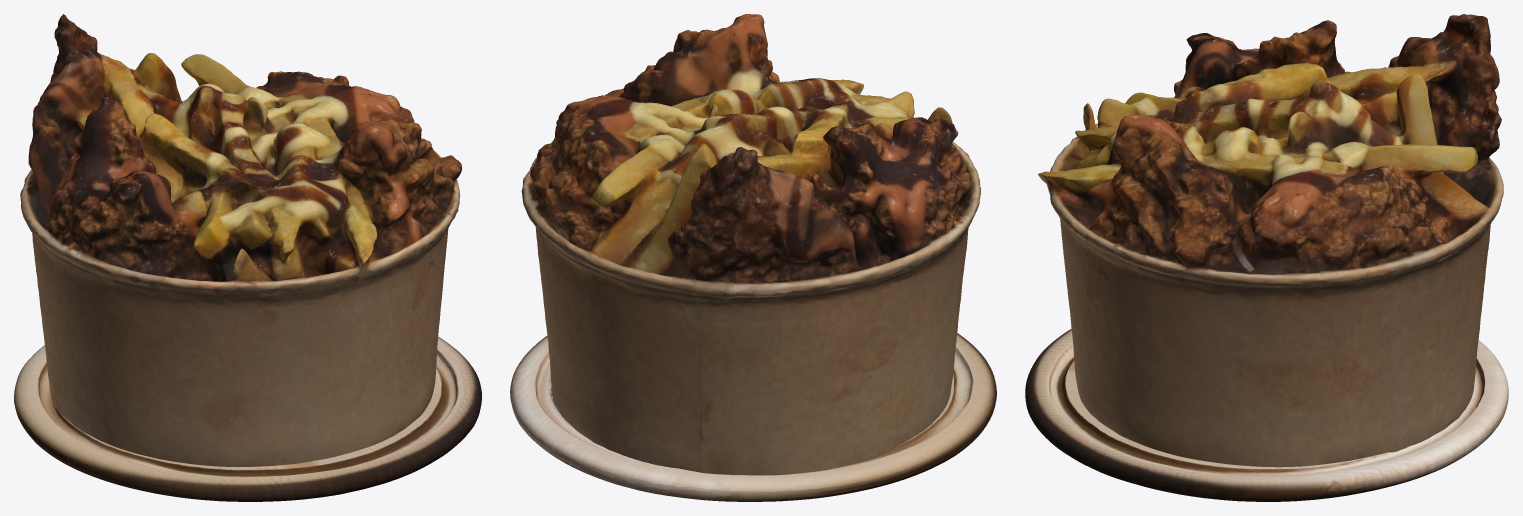
File: crispy.bowl.fries.glb
3 renders of one model, left to right at view 1: azimuth 30°, elevation 25°; view 2: azimuth 150°, elevation 25°; view 3: azimuth 270°, elevation 25°, orthographic. The views are drawn at different scales.
Visible parts, largest first — view 1: /Root/Scenes/Scene/Object_40/Object_45/Submesh_0, /Root/Scenes/Scene/Object_40/Object_41/Object_42/Submesh_0; view 2: /Root/Scenes/Scene/Object_40/Object_45/Submesh_0, /Root/Scenes/Scene/Object_40/Object_41/Object_42/Submesh_0; view 3: /Root/Scenes/Scene/Object_40/Object_45/Submesh_0, /Root/Scenes/Scene/Object_40/Object_41/Object_42/Submesh_0.
Boxes of the visible parts, left/top/right/bottom form: /Root/Scenes/Scene/Object_40/Object_45/Submesh_0: left=20, top=14, right=461, bottom=466; /Root/Scenes/Scene/Object_40/Object_41/Object_42/Submesh_0: left=14, top=337, right=481, bottom=501; /Root/Scenes/Scene/Object_40/Object_45/Submesh_0: left=521, top=14, right=980, bottom=475; /Root/Scenes/Scene/Object_40/Object_41/Object_42/Submesh_0: left=510, top=333, right=996, bottom=501; /Root/Scenes/Scene/Object_40/Object_45/Submesh_0: left=1038, top=14, right=1503, bottom=467; /Root/Scenes/Scene/Object_40/Object_41/Object_42/Submesh_0: left=1025, top=329, right=1508, bottom=501.
Size of the model in its own units: 0.194 by 0.1538 by 0.194.
Materials: 2 (2 with a texture image).
